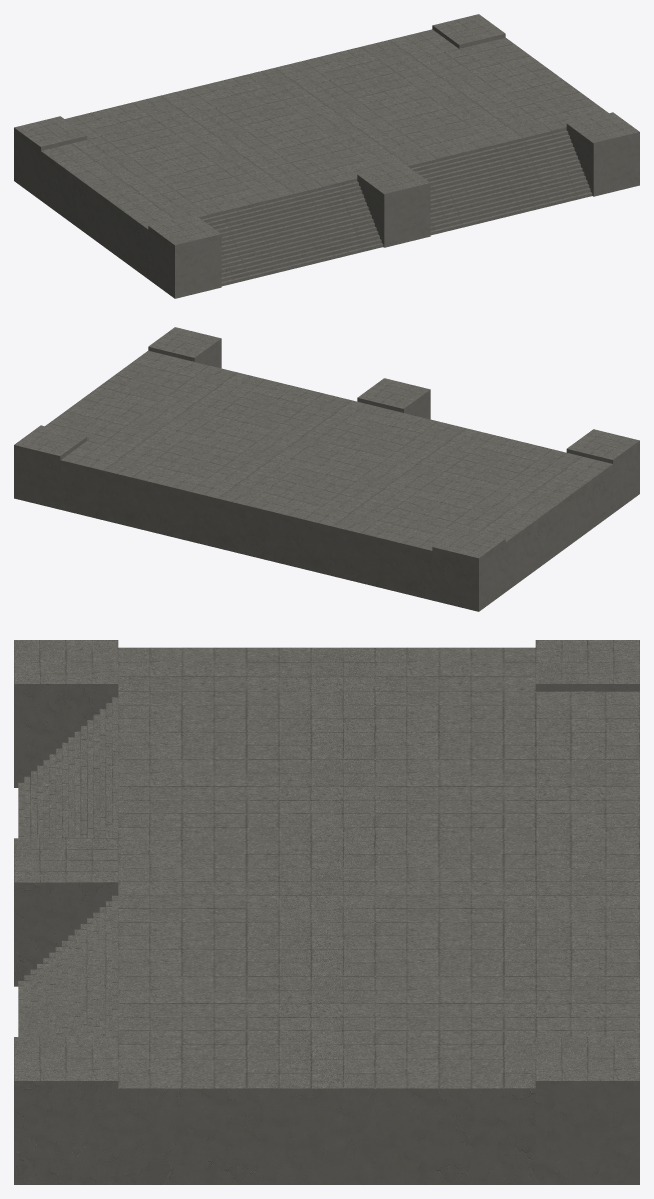
Rendered from basement_small.fbx.
3 views of the same model, one above another, from view 1: azimuth 30°, elevation 25°; view 2: azimuth 150°, elevation 25°; view 3: azimuth 270°, elevation 25° (orthographic). The views are drawn at different scales.
Parts seen in each view (by area): view 1: basement_small; view 2: basement_small; view 3: basement_small.
Part boxes in pixels (<box>): basement_small: <box>14,14,639,298</box>; basement_small: <box>14,327,639,611</box>; basement_small: <box>14,640,639,1184</box>.
Size of the model in its own units: 5000 by 550 by 3000.
